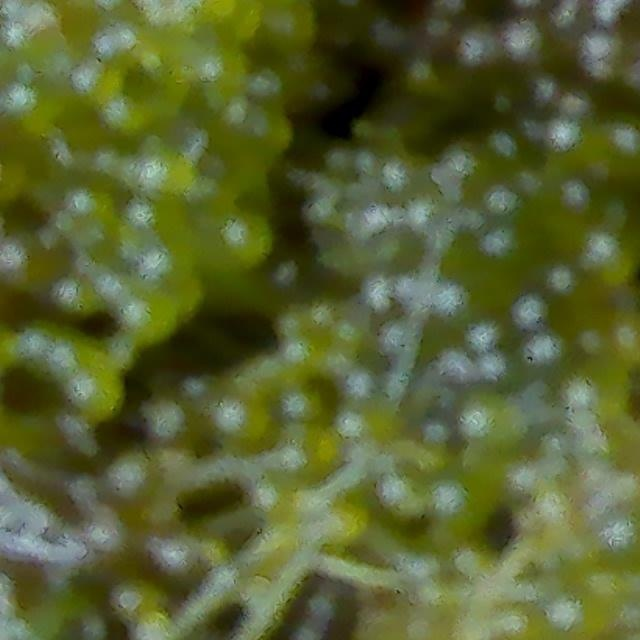SeaGrape: (429, 478, 489, 537), (213, 214, 271, 270), (458, 397, 519, 444), (567, 362, 620, 415), (136, 245, 190, 296), (126, 195, 179, 245), (142, 154, 192, 203), (119, 296, 174, 339), (217, 394, 268, 438), (453, 26, 502, 68), (73, 372, 120, 414), (73, 60, 119, 102), (600, 517, 640, 561)
